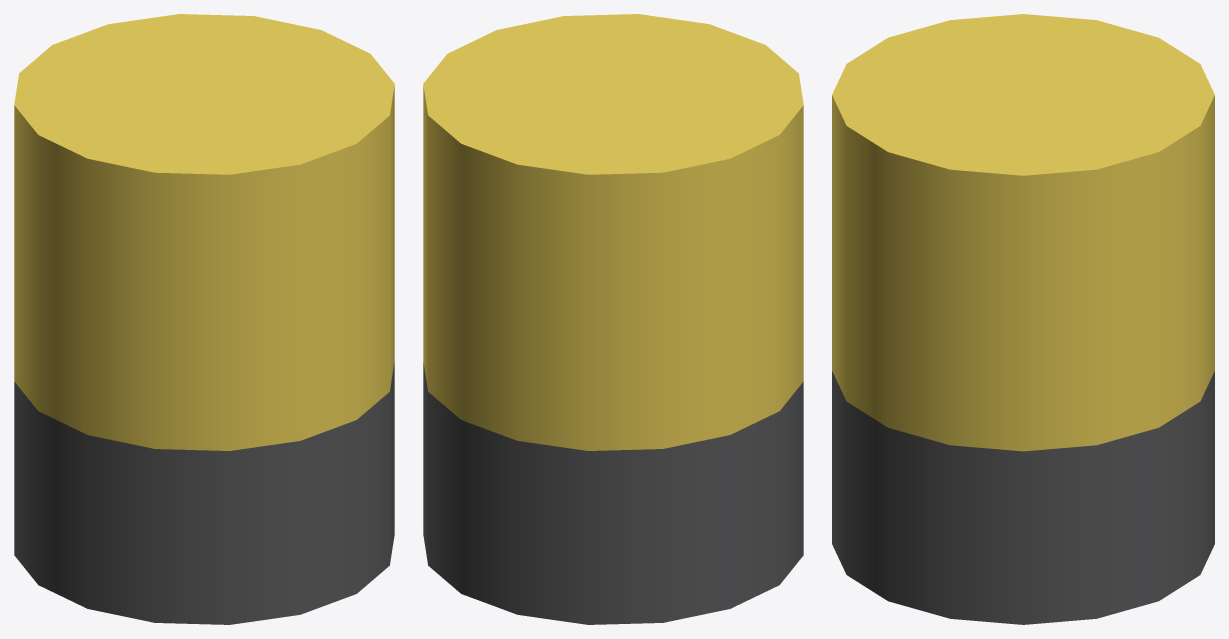
File: buoy-can-yellow.glb
The picture shows the model from 3 angles, left to right: view 1: azimuth 30°, elevation 25°; view 2: azimuth 150°, elevation 25°; view 3: azimuth 270°, elevation 25°; orthographic projection.
Parts seen in each view (by area): view 1: buoy-can-yellow; view 2: buoy-can-yellow; view 3: buoy-can-yellow.
Part boxes in pixels (box(x1,y1,x2,y2)): buoy-can-yellow: box(14, 14, 394, 624); buoy-can-yellow: box(423, 14, 803, 624); buoy-can-yellow: box(832, 14, 1214, 624).
Size of the model in its own units: 1.7 by 2.2 by 1.7.
